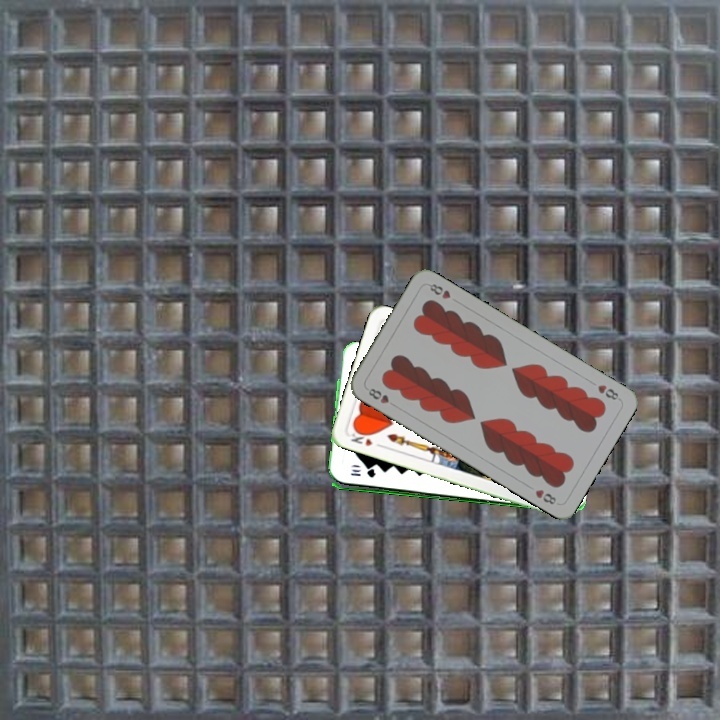G10: (347, 467, 378, 480)
H8: (364, 384, 399, 410), (593, 380, 623, 403)
HK: (347, 426, 385, 450)
